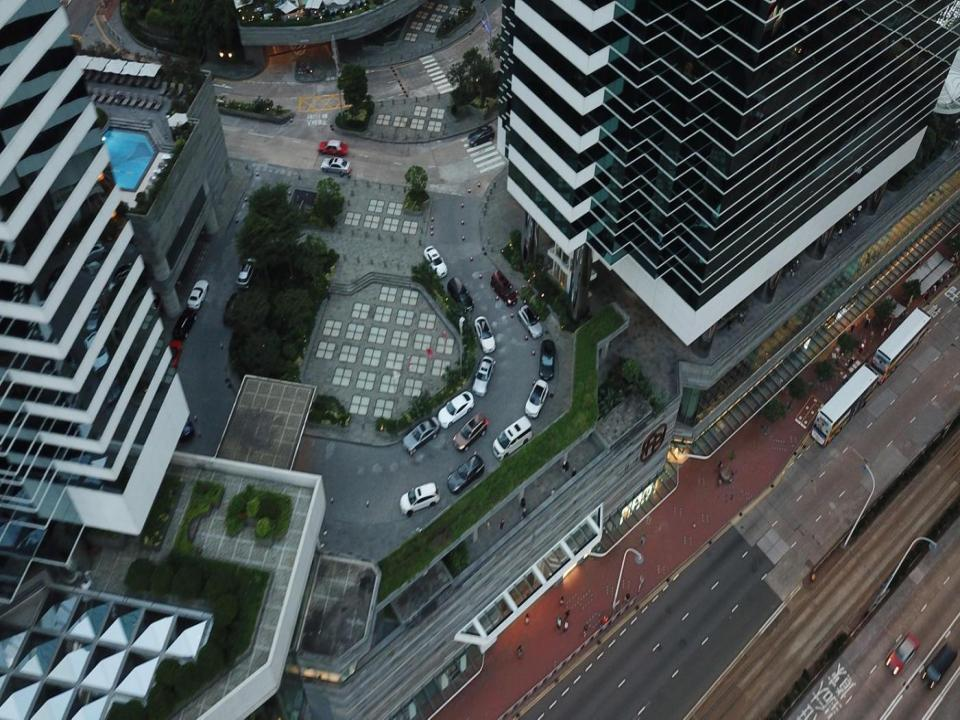bus: (810, 362, 880, 448), (872, 310, 931, 383)
car: (437, 390, 476, 430), (402, 416, 441, 456), (448, 456, 485, 496), (400, 481, 442, 515), (887, 633, 918, 676), (454, 413, 487, 452), (472, 352, 496, 397), (524, 378, 550, 418), (158, 341, 182, 377), (474, 316, 496, 355), (538, 338, 557, 381), (236, 256, 260, 290), (519, 304, 543, 338), (175, 399, 193, 443), (467, 124, 495, 151), (319, 154, 352, 176), (424, 244, 446, 277), (186, 278, 208, 310), (317, 140, 347, 160)
van: (493, 416, 532, 459), (922, 645, 957, 690), (445, 276, 475, 314), (491, 268, 520, 306), (172, 307, 198, 346)
